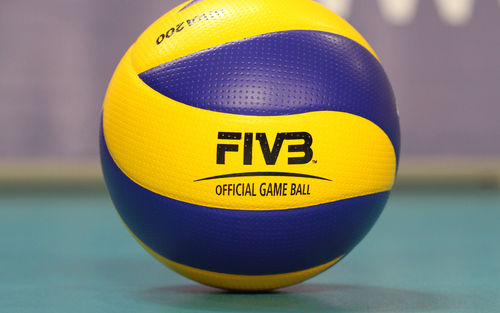volleyball: (97, 1, 402, 293)
